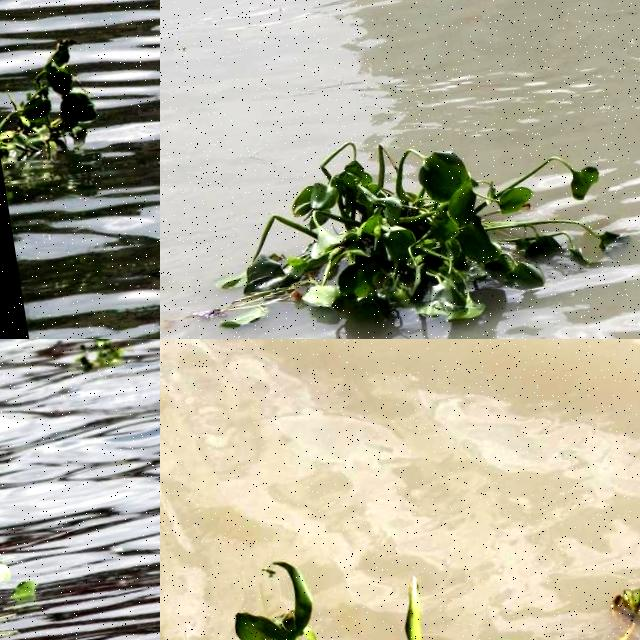water-hyacinth: (190, 99, 640, 340), (199, 486, 640, 640), (1, 513, 149, 640), (1, 38, 100, 175), (68, 340, 125, 372)
